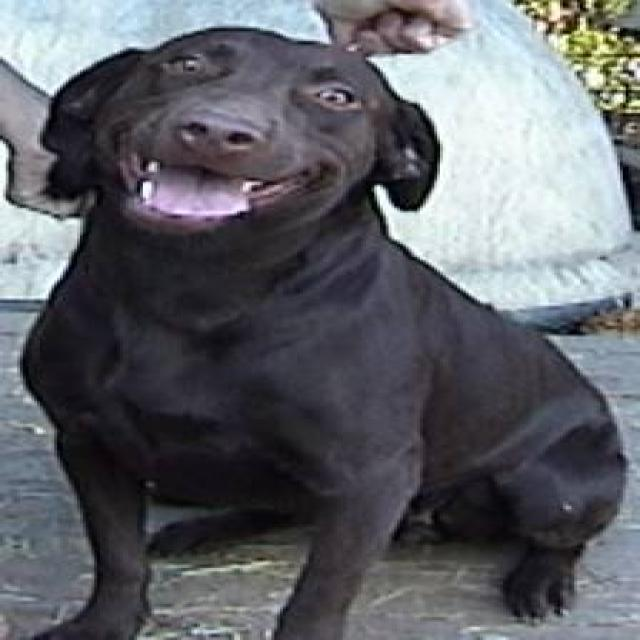Dog: (35, 24, 425, 252)
